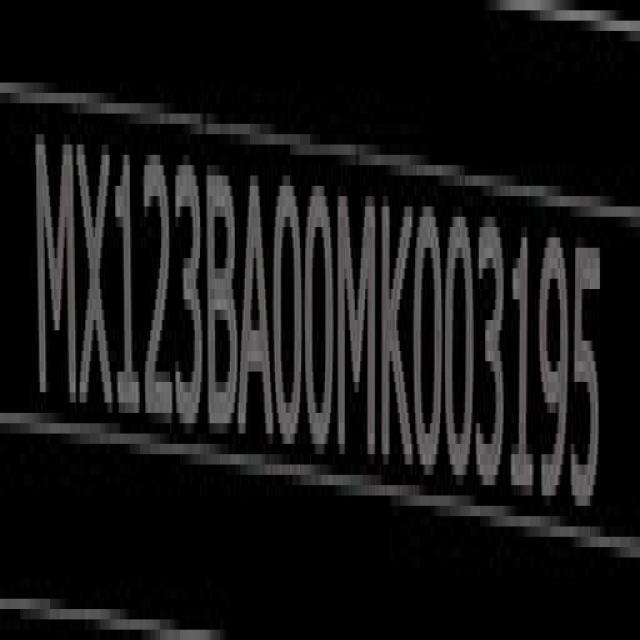0: (305, 173, 335, 466), (446, 204, 476, 494), (414, 185, 442, 483), (275, 164, 302, 456)
1: (512, 207, 532, 506), (117, 134, 137, 425)
2: (143, 147, 171, 439)
3: (174, 150, 203, 438), (478, 209, 506, 499)
5: (573, 228, 603, 522)
9: (539, 227, 571, 516)
A: (240, 160, 271, 452)
B: (208, 157, 238, 445)
K: (381, 180, 412, 481)
M: (35, 119, 75, 418), (339, 175, 378, 472)
X: (79, 126, 113, 418)
